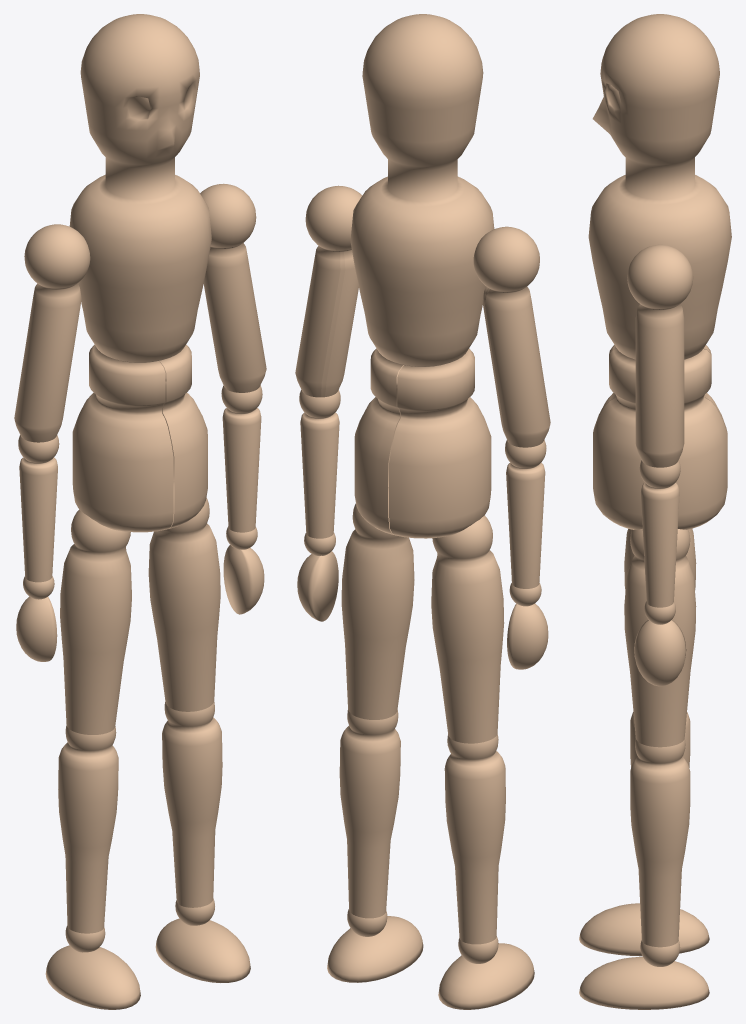
Rendered from doll.fbx.
The picture shows the model from 3 angles, left to right: view 1: azimuth 30°, elevation 25°; view 2: azimuth 150°, elevation 25°; view 3: azimuth 270°, elevation 25°; orthographic projection.
Parts seen in each view (by area): view 1: Larry; view 2: Larry; view 3: Larry.
Part boxes in pixels (x1=…): Larry: x1=14, y1=14, x2=266, y2=1009; Larry: x1=295, y1=14, x2=550, y2=1009; Larry: x1=579, y1=14, x2=731, y2=1009.
Size of the model in its own units: 0.0615 by 0.2263 by 0.0331.
